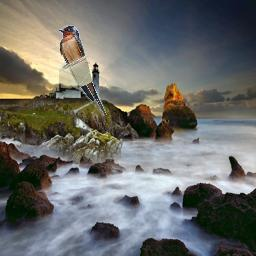Swallow: (59, 25, 107, 116)
